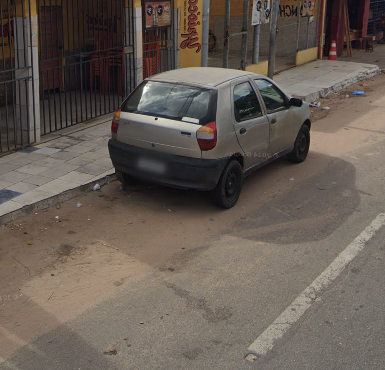car: (107, 61, 319, 213)
